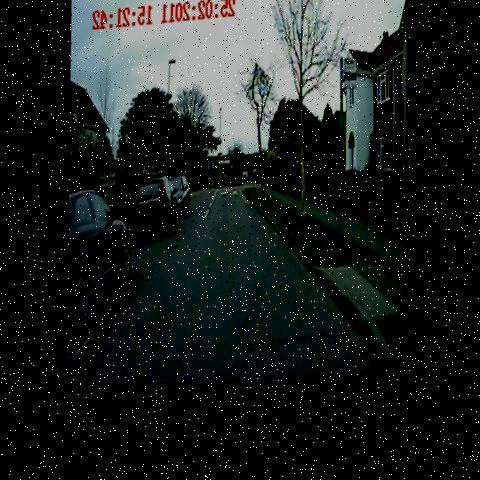pothole: (169, 220, 190, 258)
